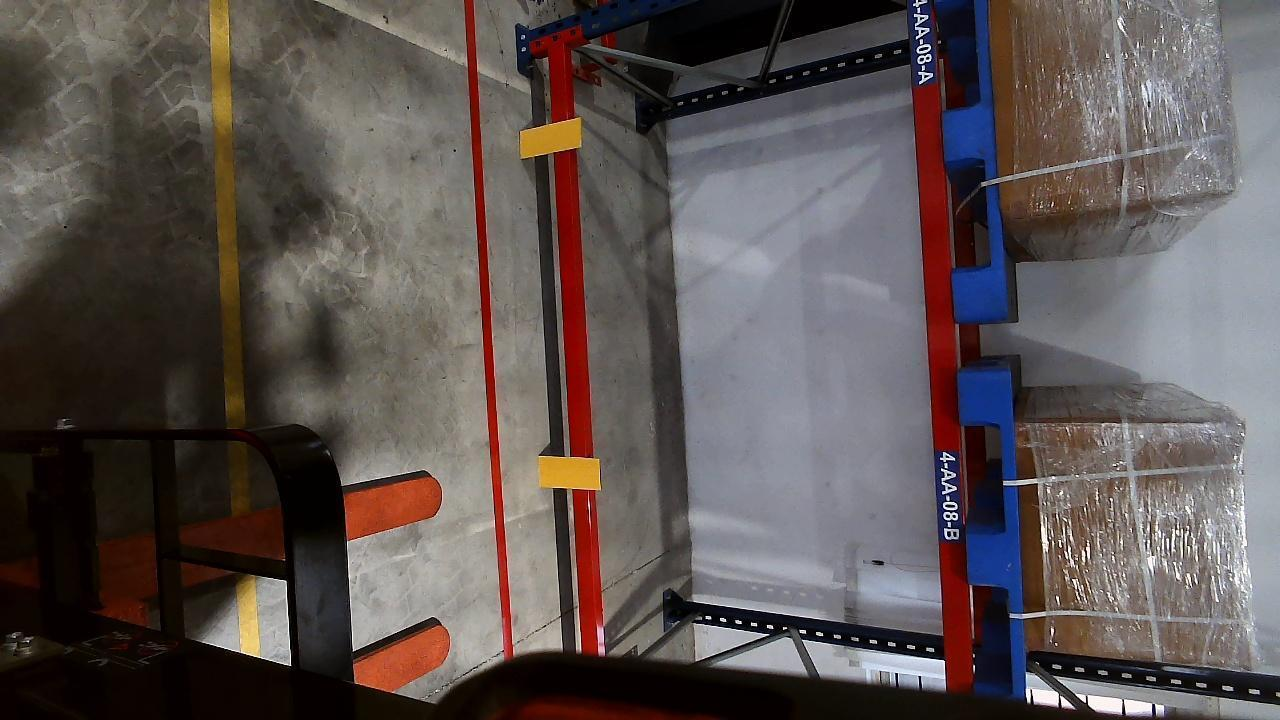red_line: (461, 0, 516, 652)
yellow_line: (209, 0, 249, 427)
